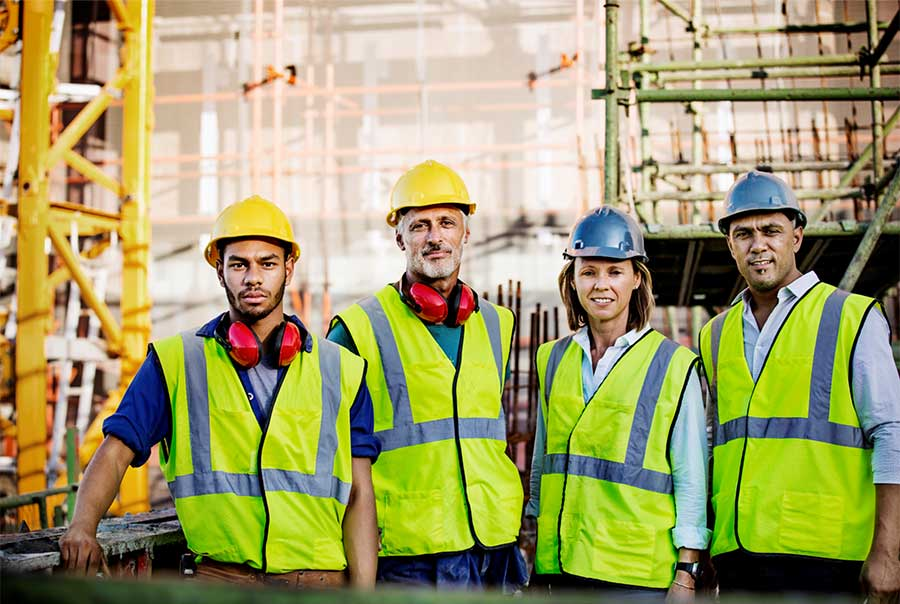hard-hat: (202, 191, 304, 268), (383, 157, 478, 229), (715, 166, 809, 234), (557, 203, 649, 272)
